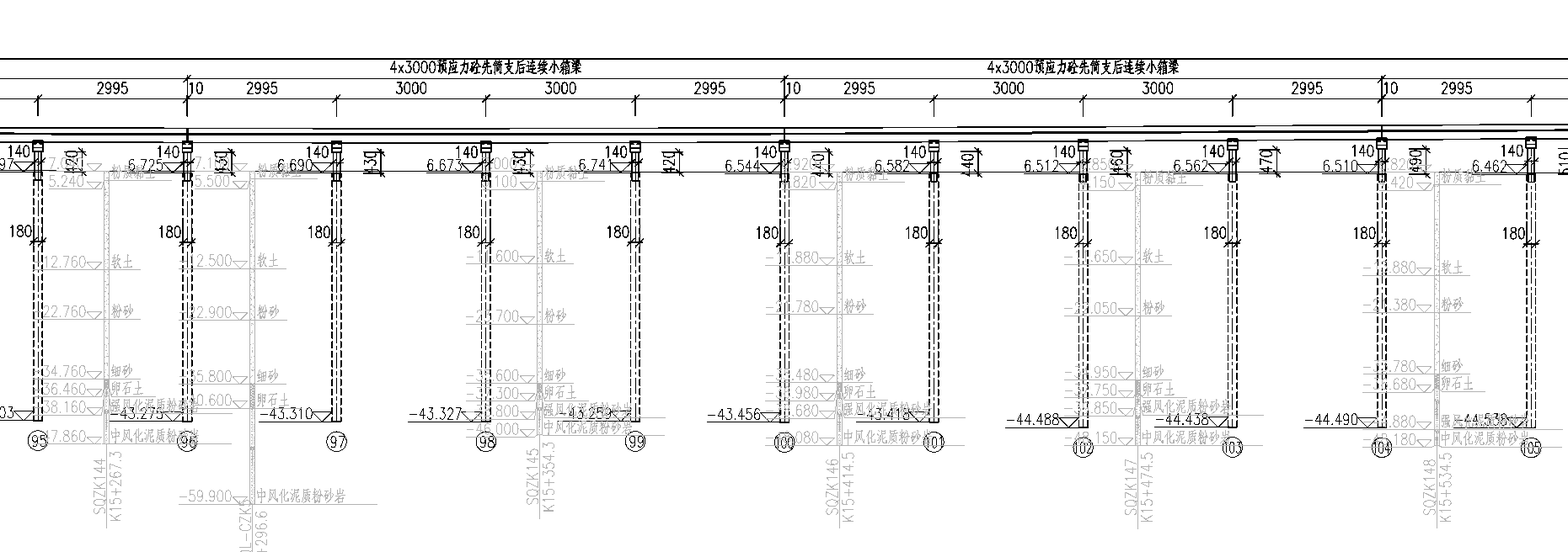B: (184, 49, 793, 92), (781, 49, 1384, 92)
C: (1449, 128, 1555, 466), (1000, 131, 1107, 464), (1301, 130, 1406, 464), (549, 132, 656, 459), (1154, 129, 1255, 466), (405, 133, 509, 458), (704, 132, 807, 459), (255, 133, 358, 459), (859, 132, 956, 460), (115, 133, 210, 459), (0, 132, 60, 458)
